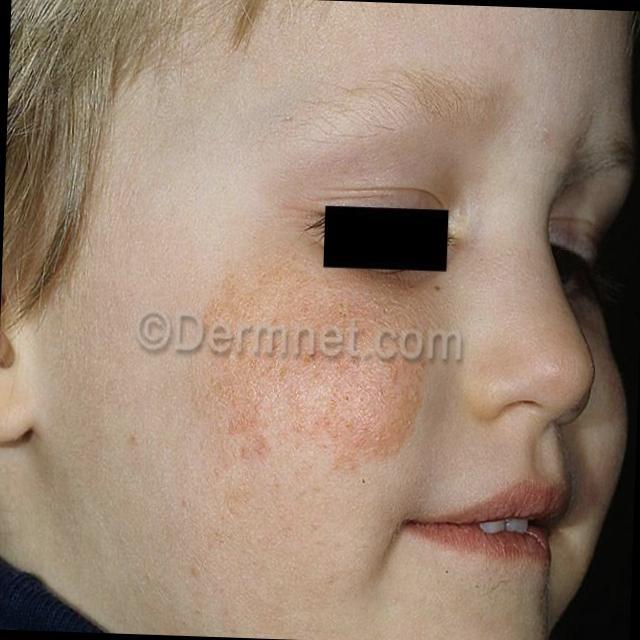Eczema: (190, 249, 429, 474)
